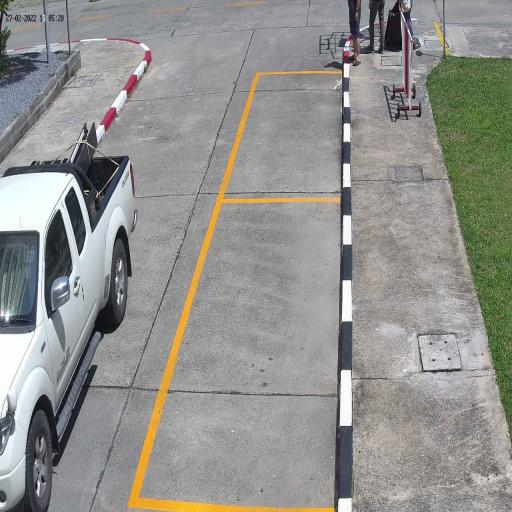car: (0, 150, 138, 512)
